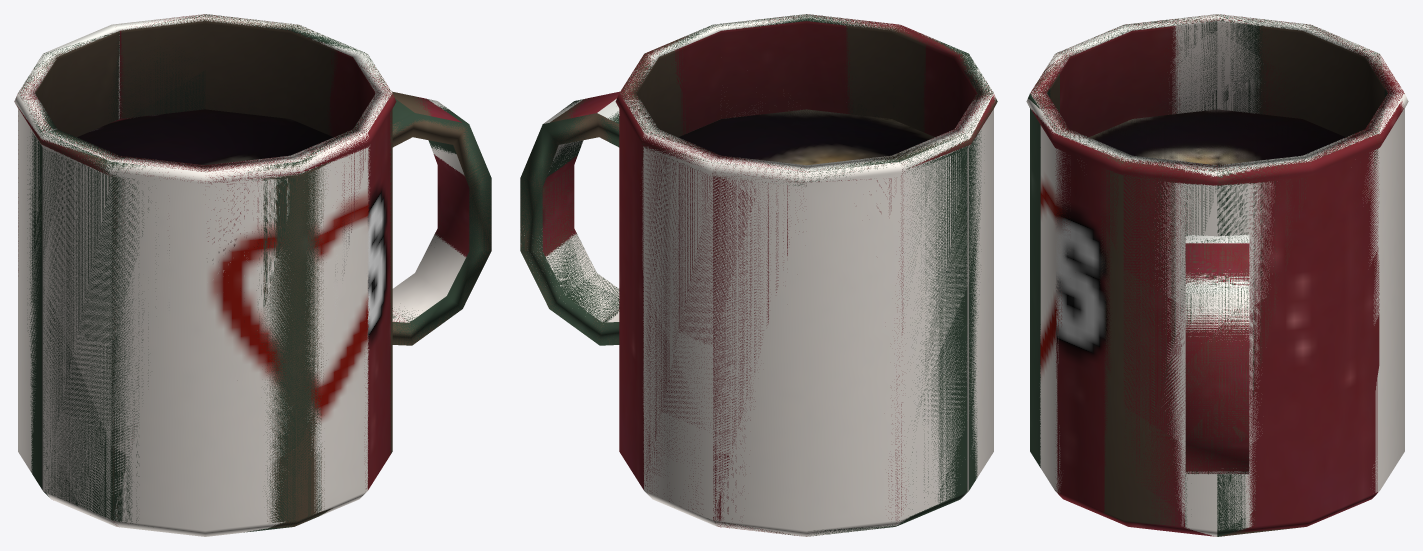
Rendered from kaffeetassen.fbx.
3 views of the same model, side by side, from view 1: azimuth 30°, elevation 25°; view 2: azimuth 150°, elevation 25°; view 3: azimuth 270°, elevation 25° (orthographic).
Visible parts, largest first — view 1: Mesh, Mesh_ncl1_1, Mesh_ncl1_3, Mesh_ncl1_2; view 2: Mesh, Mesh_ncl1_2, Mesh_ncl1_1, Mesh_ncl1_3; view 3: Mesh_ncl1_2, Mesh, Mesh_ncl1_3, Mesh_ncl1_1.
Boxes of the visible parts, box(x1,y1,x2,y2) form: Mesh: box(14, 14, 466, 536); Mesh_ncl1_1: box(18, 14, 491, 532); Mesh_ncl1_3: box(20, 15, 491, 528); Mesh_ncl1_2: box(14, 14, 469, 525); Mesh: box(524, 14, 996, 536); Mesh_ncl1_2: box(542, 14, 996, 536); Mesh_ncl1_1: box(520, 14, 997, 535); Mesh_ncl1_3: box(520, 15, 996, 532); Mesh_ncl1_2: box(1030, 14, 1404, 536); Mesh: box(1026, 14, 1408, 536); Mesh_ncl1_3: box(1031, 14, 1393, 536); Mesh_ncl1_1: box(1028, 14, 1387, 536).
Size of the model in its own units: 17.05 by 13.77 by 12.94.
